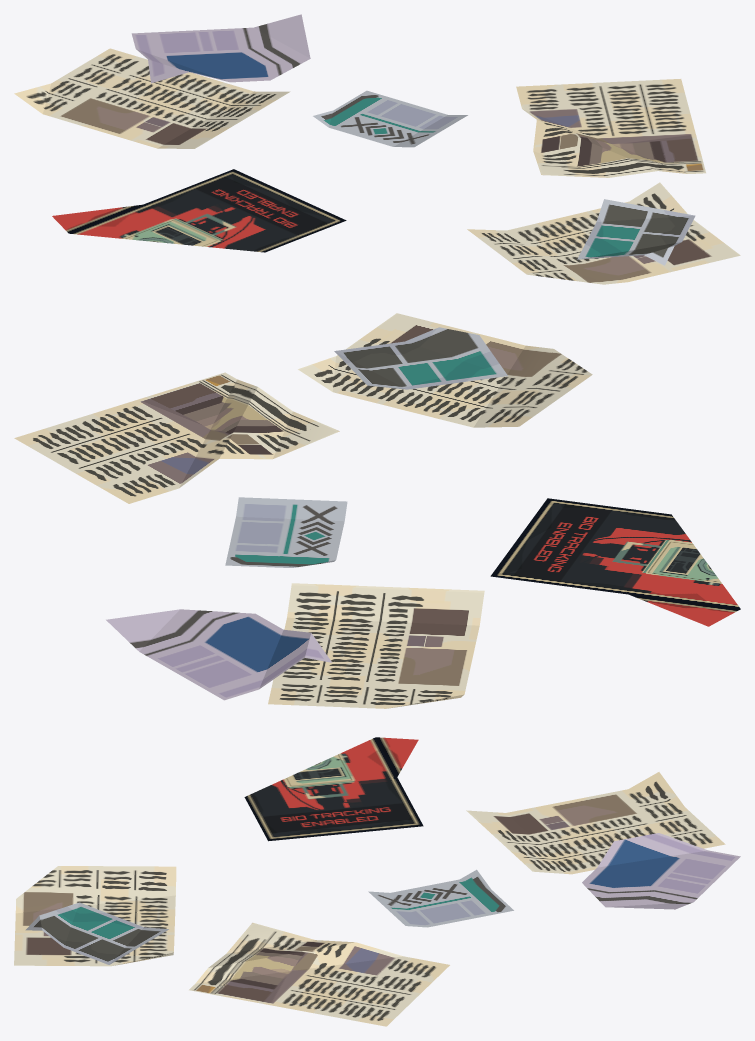
The model's file is SM_Prop_Junk_Paper_09.fbx.
3 views of the same model, one above another, from view 1: azimuth 30°, elevation 25°; view 2: azimuth 150°, elevation 25°; view 3: azimuth 270°, elevation 25° (orthographic). The views are drawn at different scales.
Parts seen in each view (by area): view 1: SM_Prop_Junk_Paper_09; view 2: SM_Prop_Junk_Paper_09; view 3: SM_Prop_Junk_Paper_09.
Part boxes in pixels (bbox=[...]): SM_Prop_Junk_Paper_09: bbox=[14, 14, 740, 284]; SM_Prop_Junk_Paper_09: bbox=[14, 313, 740, 708]; SM_Prop_Junk_Paper_09: bbox=[14, 737, 740, 1026].
Bounding box in the file's own units: 182 × 3.82 × 193.
